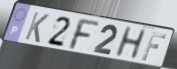2: (44, 15, 73, 49), (92, 23, 119, 57)
F: (68, 17, 101, 52), (140, 31, 168, 62)
H: (112, 26, 149, 61)
K: (23, 11, 51, 45)
